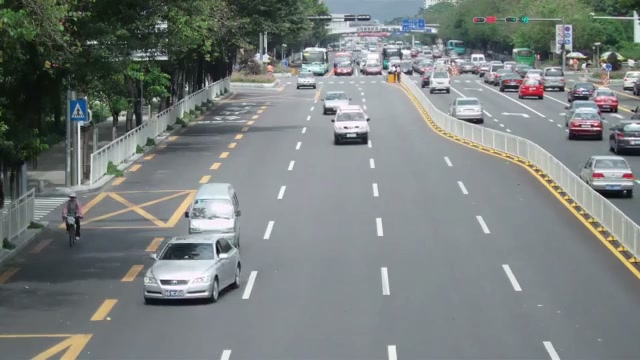bus: (302, 47, 329, 76)
car: (142, 232, 242, 305), (187, 196, 241, 243), (580, 154, 637, 198), (195, 182, 241, 216), (332, 108, 370, 145), (567, 107, 603, 141), (608, 121, 640, 155), (449, 96, 483, 123), (322, 90, 351, 115), (593, 88, 619, 112), (518, 78, 544, 100), (568, 83, 597, 101), (428, 71, 450, 94), (622, 71, 640, 95), (499, 77, 522, 92), (296, 72, 316, 89)
motorcycle: (64, 212, 82, 246)
pedestrian: (62, 193, 83, 237)
truck: (333, 53, 354, 76)
